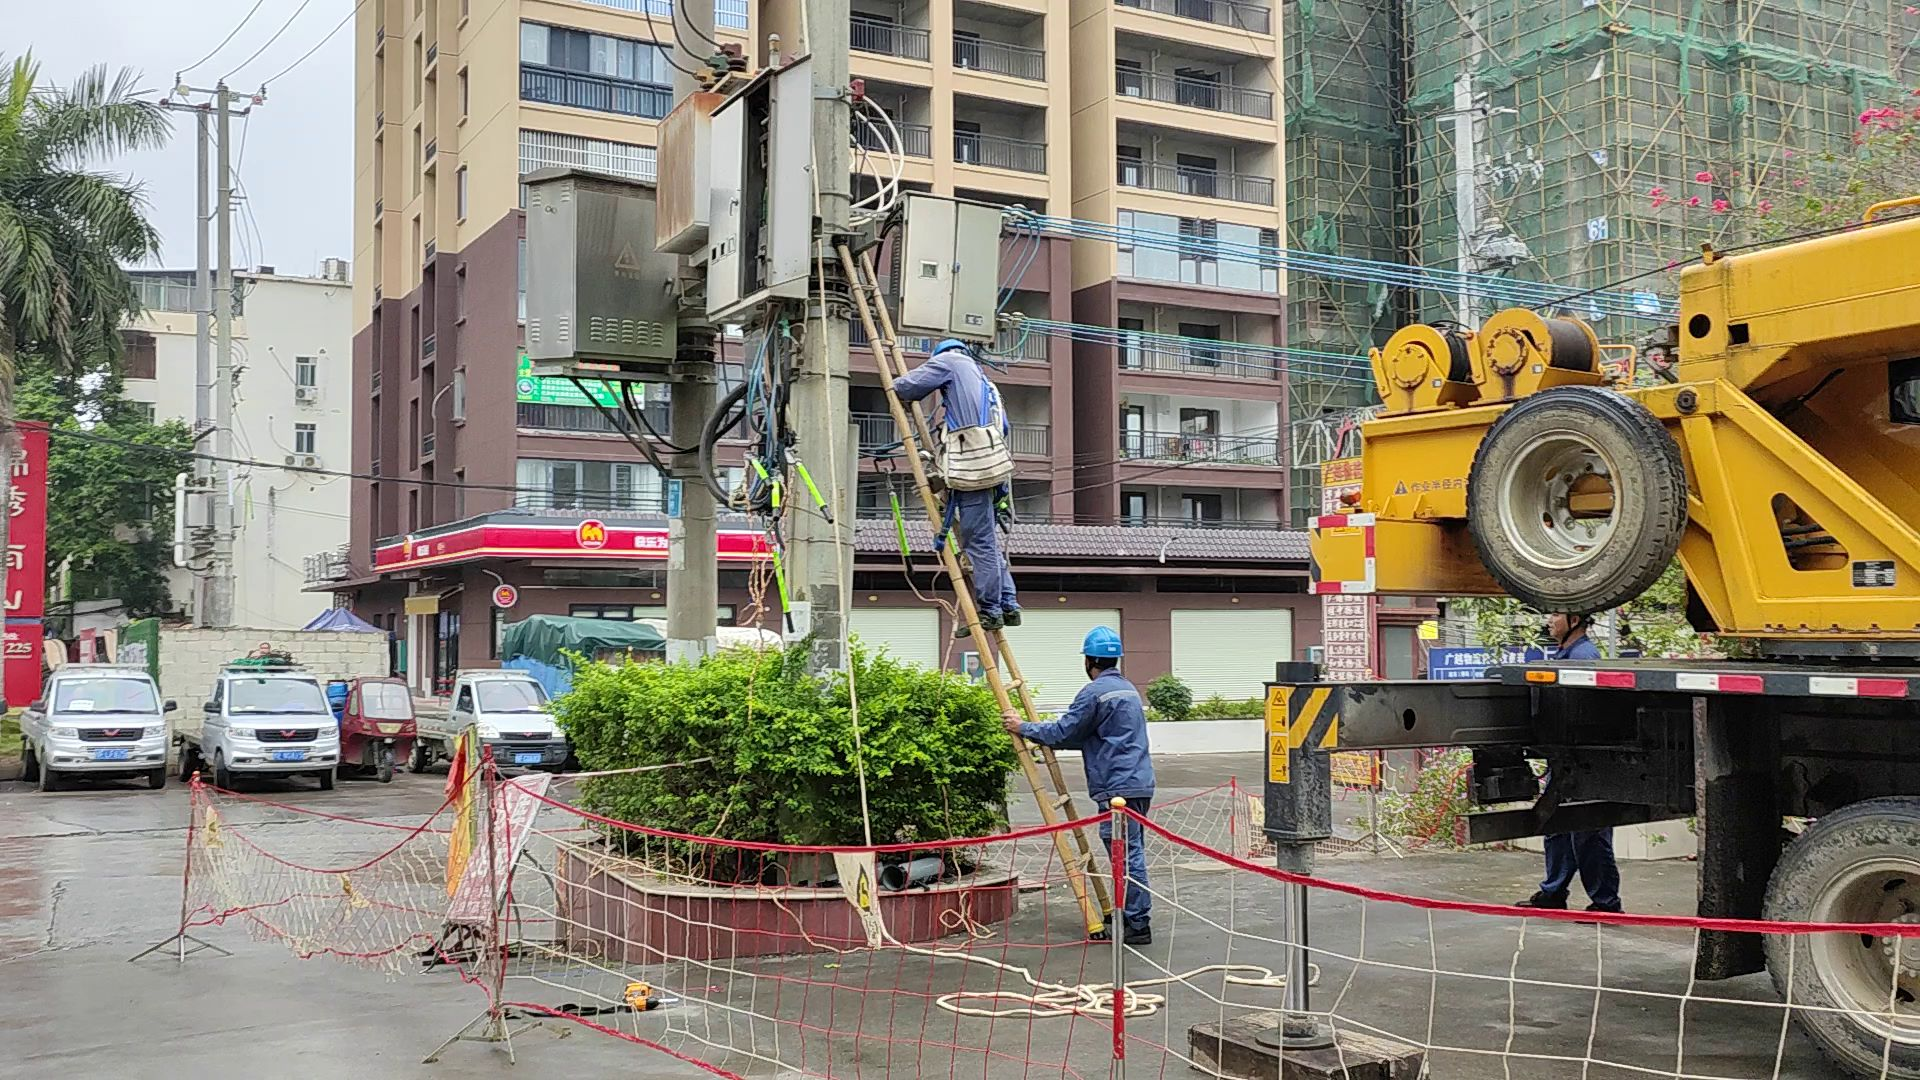downsuit: (950, 484, 1019, 612), (1100, 802, 1155, 924)
halt: (1081, 625, 1125, 674), (936, 333, 975, 362)
hand: (998, 711, 1019, 734)
person: (1018, 622, 1161, 933), (882, 336, 1026, 624), (1525, 604, 1636, 927)
support: (997, 620, 1169, 953)
upsuit: (1028, 670, 1156, 792), (894, 341, 1010, 435)
